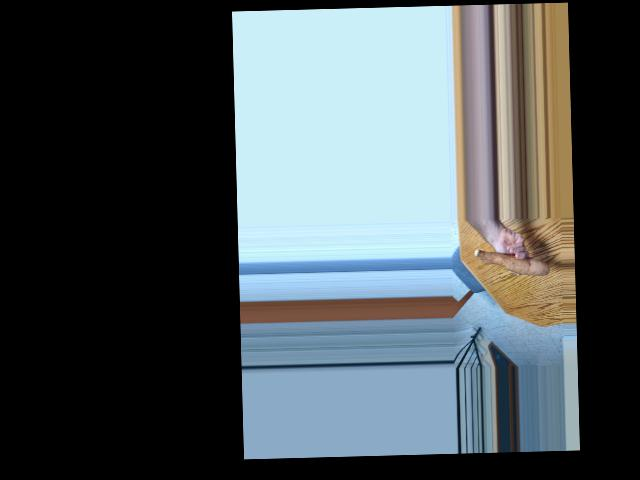sweet_potato: (476, 246, 546, 282)
